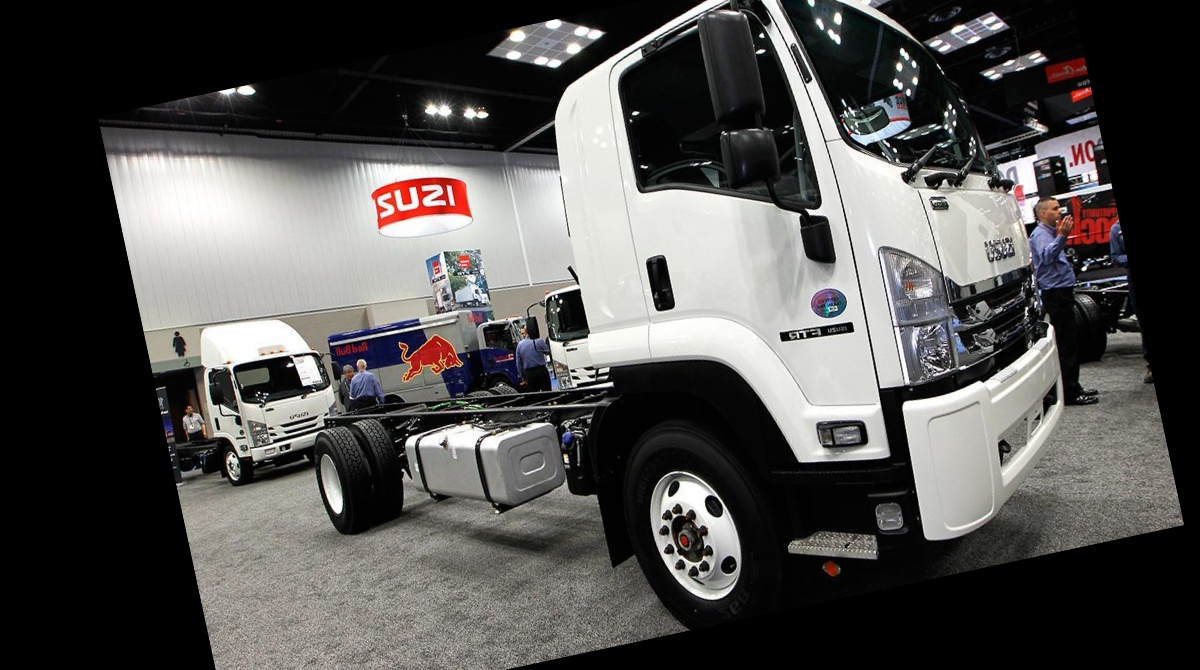truck: (236, 0, 1098, 670)
